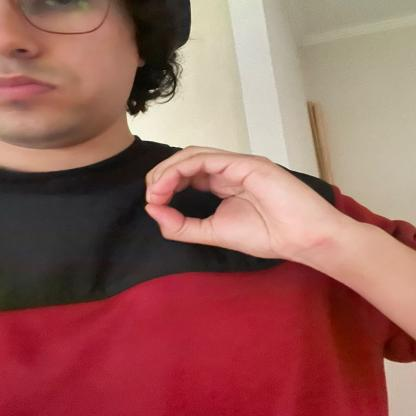O: (143, 137, 322, 269)
